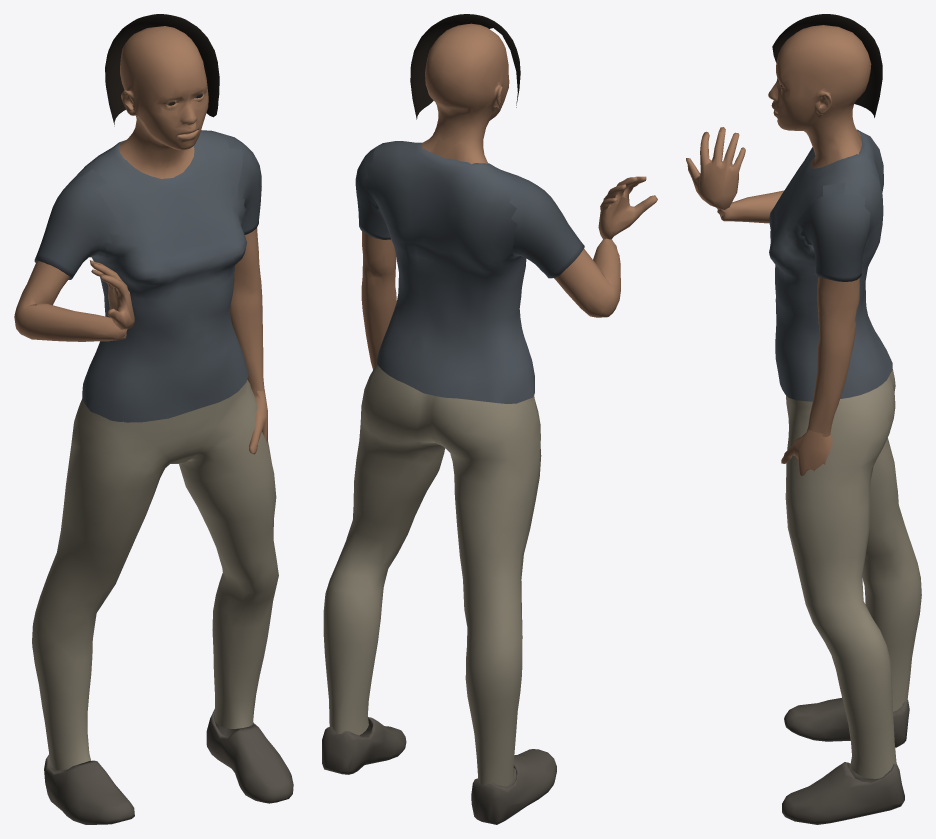
File: participant-01-middle.glb
3 renders of one model, left to right at view 1: azimuth 30°, elevation 25°; view 2: azimuth 150°, elevation 25°; view 3: azimuth 270°, elevation 25°, orthographic. The views are drawn at different scales.
Parts seen in each view (by area): view 1: Participant anatomy and ordinary clothes; view 2: Participant anatomy and ordinary clothes; view 3: Participant anatomy and ordinary clothes.
Part boxes in pixels (x1=…): Participant anatomy and ordinary clothes: x1=14, y1=14, x2=293, y2=824; Participant anatomy and ordinary clothes: x1=322, y1=14, x2=657, y2=824; Participant anatomy and ordinary clothes: x1=686, y1=14, x2=921, y2=824.
Bounding box in the file's own units: 0.6142 × 1.69 × 0.4795.
